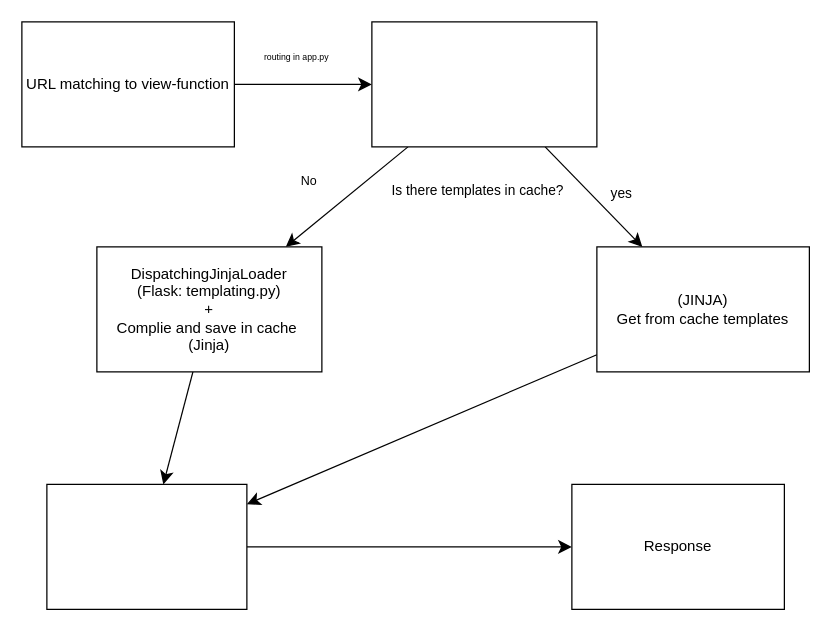
Some shapes in this 831 by 631 pixel diagram are drawn without their labels. The shapes that lost their labels are listed below. From the top down, each one's box as (x1, y1, x2, y2) in pixels, then its label:
(371, 21, 597, 147): Render_template() (templating.py)
(46, 483, 247, 609): Jinja fills templates with data
